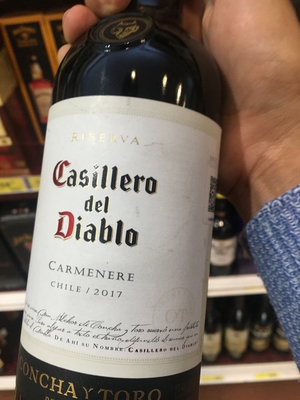casillero del diablo carmenere: (12, 38, 238, 400)
